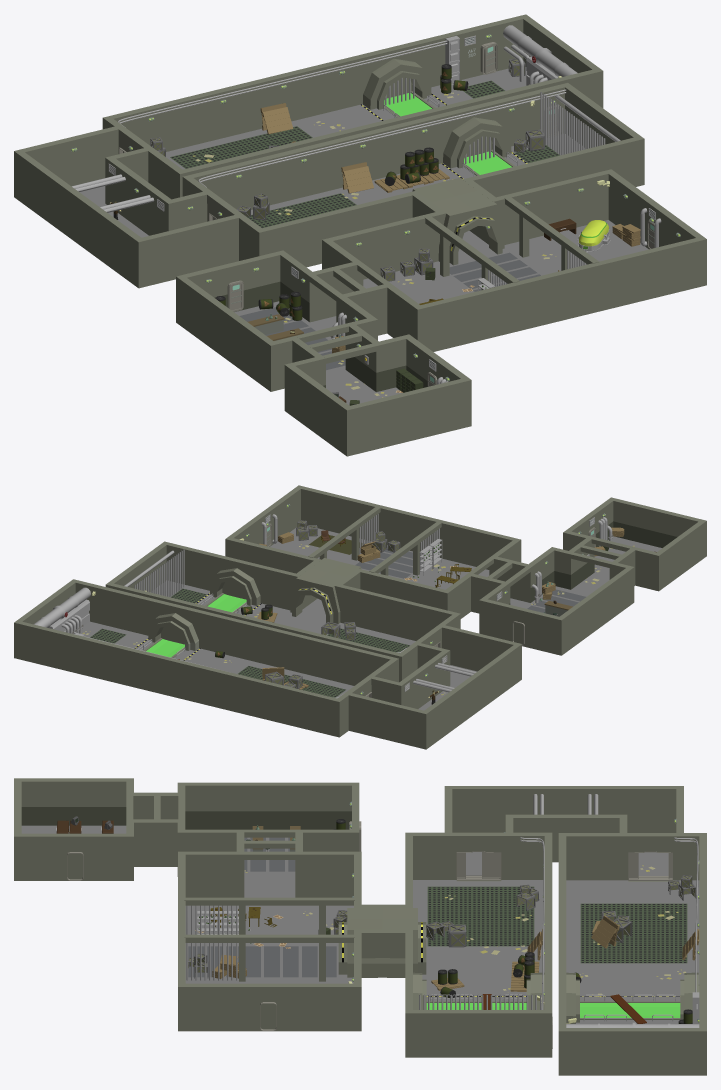
File: Bunker_PT3_exp.fbx
The picture shows the model from 3 angles, top to bottom: view 1: azimuth 30°, elevation 25°; view 2: azimuth 150°, elevation 25°; view 3: azimuth 270°, elevation 25°; orthographic projection. The views are drawn at different scales.
Visible parts, largest first — view 1: Cube.006, Cube.090, Cylinder.052, Cube.079, Plane.039, Cube.084, Cube.107, NurbsPath.020, Cube.108, Plane.042, NurbsPath, Plane.070 (+4 smaller); view 2: Cube.006, Cube.090, Cylinder.052, Cube.081, Cube.086, Cube.107, Cube.108, Plane.070, Cylinder.054, Plane.039, Plane.042, Plane.064 (+4 smaller); view 3: Cube.006, Plane.042, Plane.039, Cube.090, Plane.070, Cube.107, Cube.108, Plane.037, Cylinder.066, Cylinder.052, Cylinder.067, Plane.064 (+6 smaller).
Part boxes in pixels (x1,y1,x2,y2): Cube.006: (14, 14, 706, 456); Cube.090: (412, 177, 504, 265); Cylinder.052: (540, 92, 605, 154); Cube.079: (363, 58, 431, 109); Plane.039: (170, 126, 312, 168); Cube.084: (443, 117, 511, 168); Cube.107: (504, 196, 598, 270); NurbsPath.020: (198, 89, 566, 187); Cube.108: (425, 216, 519, 289); Plane.042: (246, 193, 356, 228); NurbsPath: (118, 40, 447, 127); Plane.070: (449, 252, 540, 291); Cube.006: (14, 485, 706, 749); Cube.090: (290, 558, 361, 623); Cylinder.052: (134, 549, 184, 597); Cube.081: (148, 613, 198, 650); Cube.086: (210, 568, 260, 605); Cube.107: (308, 506, 380, 560); Cube.108: (369, 521, 442, 575); Plane.070: (355, 546, 422, 578); Cylinder.054: (33, 587, 90, 627); Plane.039: (238, 666, 345, 697); Plane.042: (327, 628, 409, 652); Plane.064: (527, 589, 585, 613); Cube.006: (14, 778, 706, 1075); Plane.042: (427, 886, 534, 946); Plane.039: (580, 903, 687, 963); Cube.090: (338, 908, 426, 977); Plane.070: (188, 946, 336, 977); Cube.107: (184, 934, 354, 981); Cube.108: (184, 897, 354, 934); Plane.037: (580, 1001, 680, 1019); Cylinder.066: (186, 943, 237, 980); Cylinder.052: (419, 994, 541, 1009); Cylinder.067: (186, 905, 237, 934); Plane.064: (244, 837, 295, 871).
Size of the model in its own units: 28394 by 2551 by 32877.
65 materials, 3 textured.
